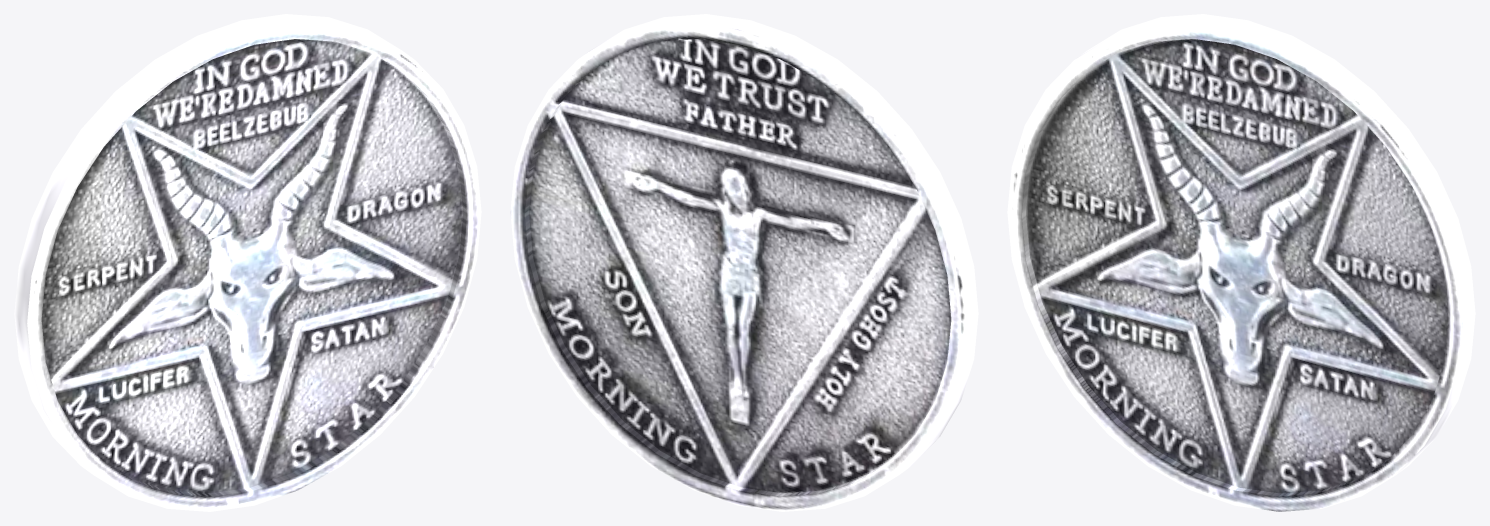
File: coin.glb
The picture shows the model from 3 angles, left to right: view 1: azimuth 30°, elevation 25°; view 2: azimuth 150°, elevation 25°; view 3: azimuth 330°, elevation 25°; orthographic projection.
Parts seen in each view (by area): view 1: Cylinder; view 2: Cylinder; view 3: Cylinder.
Boxes of the visible parts, box(x1,y1,x2,y2) form: Cylinder: box(14, 14, 481, 511); Cylinder: box(510, 14, 978, 511); Cylinder: box(1007, 14, 1475, 511).
Bounding box in the file's own units: 2 × 2 × 0.1005.
Materials: 1 (1 with a texture image).
